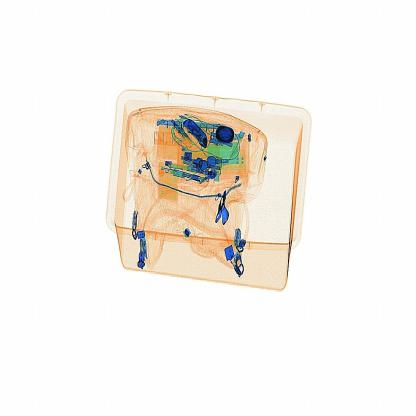wrench: (207, 180, 238, 244)
